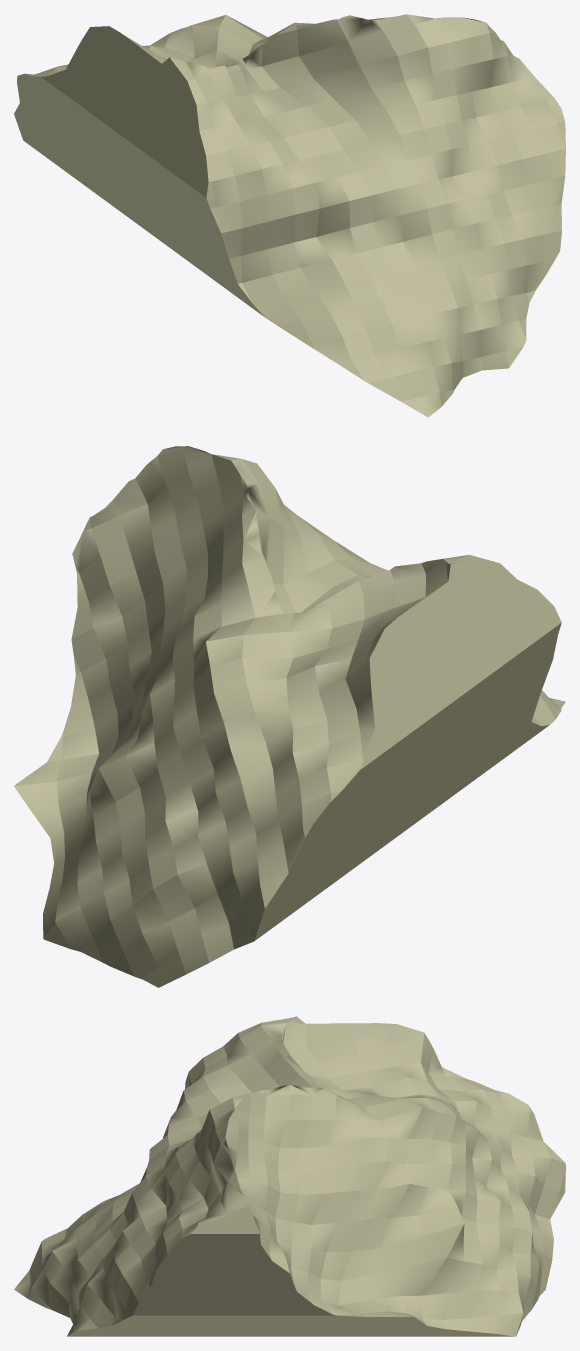
File: M_Column_D22_1.fbx
3 renders of one model, top to bottom at view 1: azimuth 30°, elevation 25°; view 2: azimuth 150°, elevation 25°; view 3: azimuth 270°, elevation 25°, orthographic. The views are drawn at different scales.
Parts seen in each view (by area): view 1: M_Column_D22_2; view 2: M_Column_D22_2; view 3: M_Column_D22_2.
Boxes of the visible parts, x1,y1,x2,y2 form: M_Column_D22_2: [14, 14, 565, 417]; M_Column_D22_2: [14, 446, 565, 987]; M_Column_D22_2: [14, 1016, 565, 1336].
Size of the model in its own units: 1.6 by 1.19 by 2.45.
